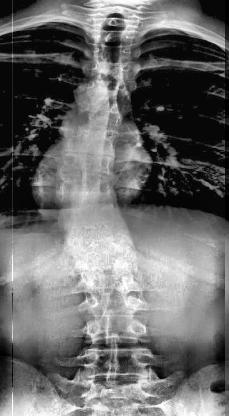Vertebrae: (82, 348, 146, 376), (89, 316, 143, 348), (57, 178, 117, 206), (56, 154, 124, 178), (64, 128, 122, 154), (83, 294, 143, 318), (59, 209, 127, 230), (68, 234, 136, 254), (75, 254, 137, 274), (82, 80, 128, 104), (76, 107, 121, 129), (84, 276, 138, 294), (86, 61, 134, 81), (89, 42, 135, 62), (89, 26, 136, 44)
